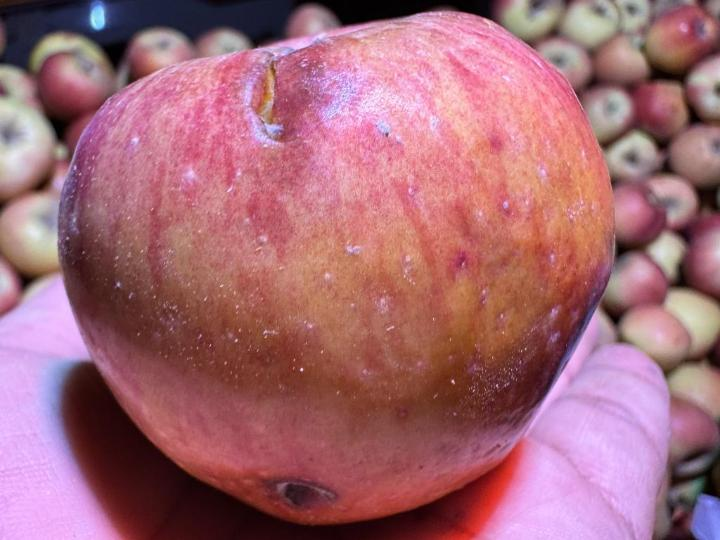apple: (59, 13, 614, 524)
surface_damage: (243, 52, 306, 148), (262, 477, 342, 514)
